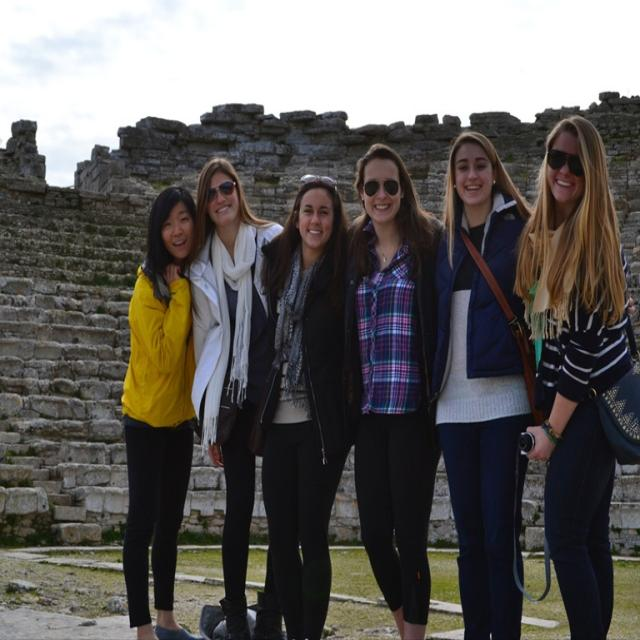body: (512, 113, 639, 639), (430, 129, 556, 639), (330, 139, 456, 639), (257, 171, 356, 640), (188, 157, 284, 640), (117, 184, 208, 639)
